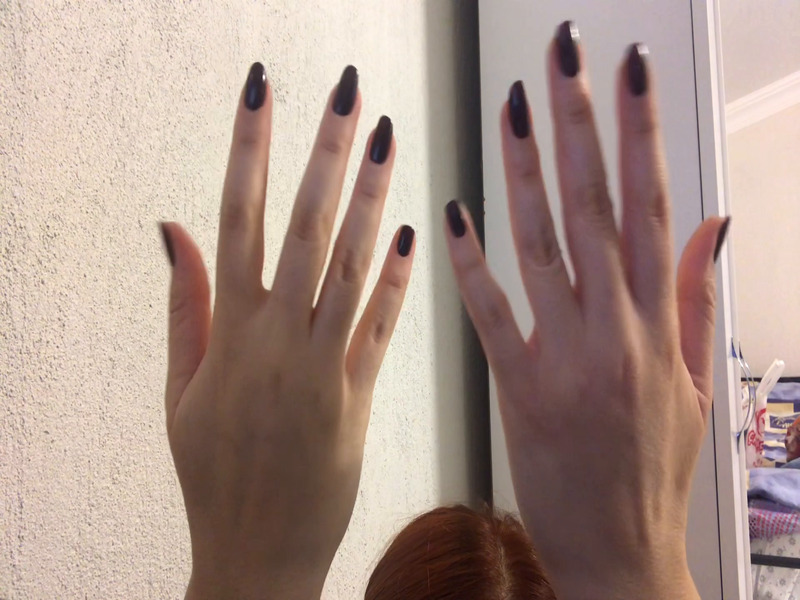hand: (435, 16, 727, 536), (141, 46, 423, 553)
